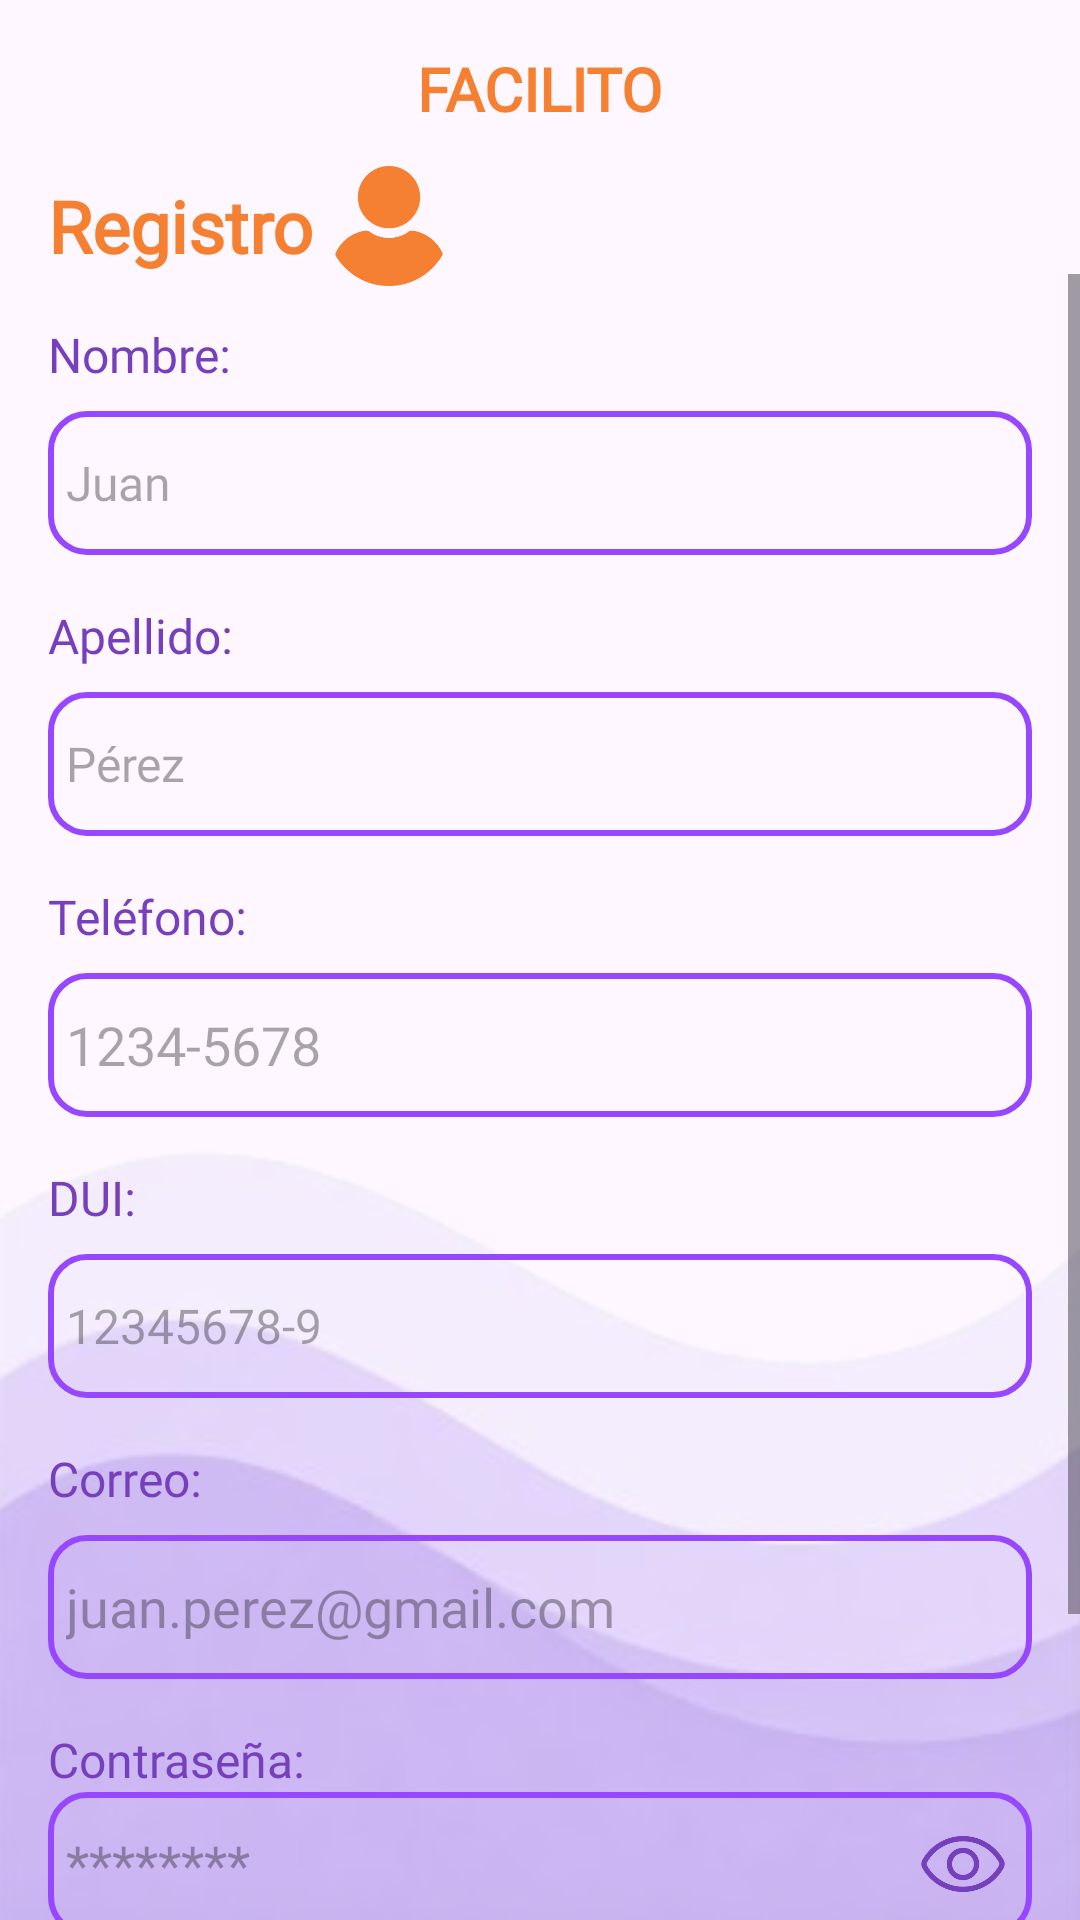

Named icons in this screenshot (1080 x 1920) and their bounding boxes, bbox(x1, y1, x2, y2):
Cliente: bbox(335, 166, 443, 286)
visible: bbox(921, 1836, 1005, 1892)
